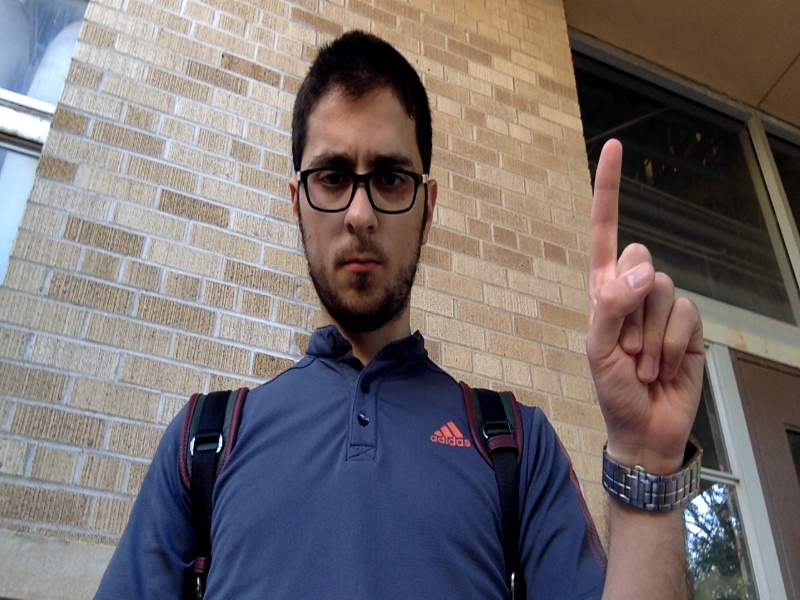1-hand: (589, 138, 706, 468)
